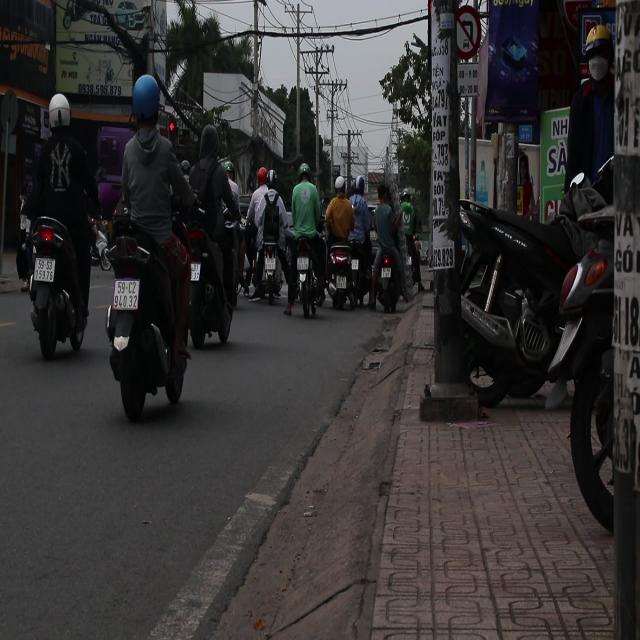motorbike: (102, 202, 190, 418), (17, 212, 87, 360), (184, 213, 238, 349), (326, 242, 364, 312), (293, 244, 319, 326), (260, 235, 286, 301), (375, 249, 399, 309)
